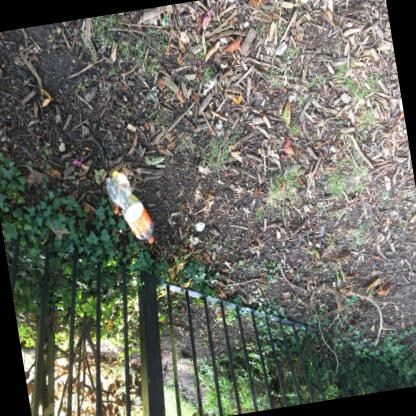Plastic: (104, 169, 153, 242), (71, 158, 82, 165), (147, 237, 153, 242)
